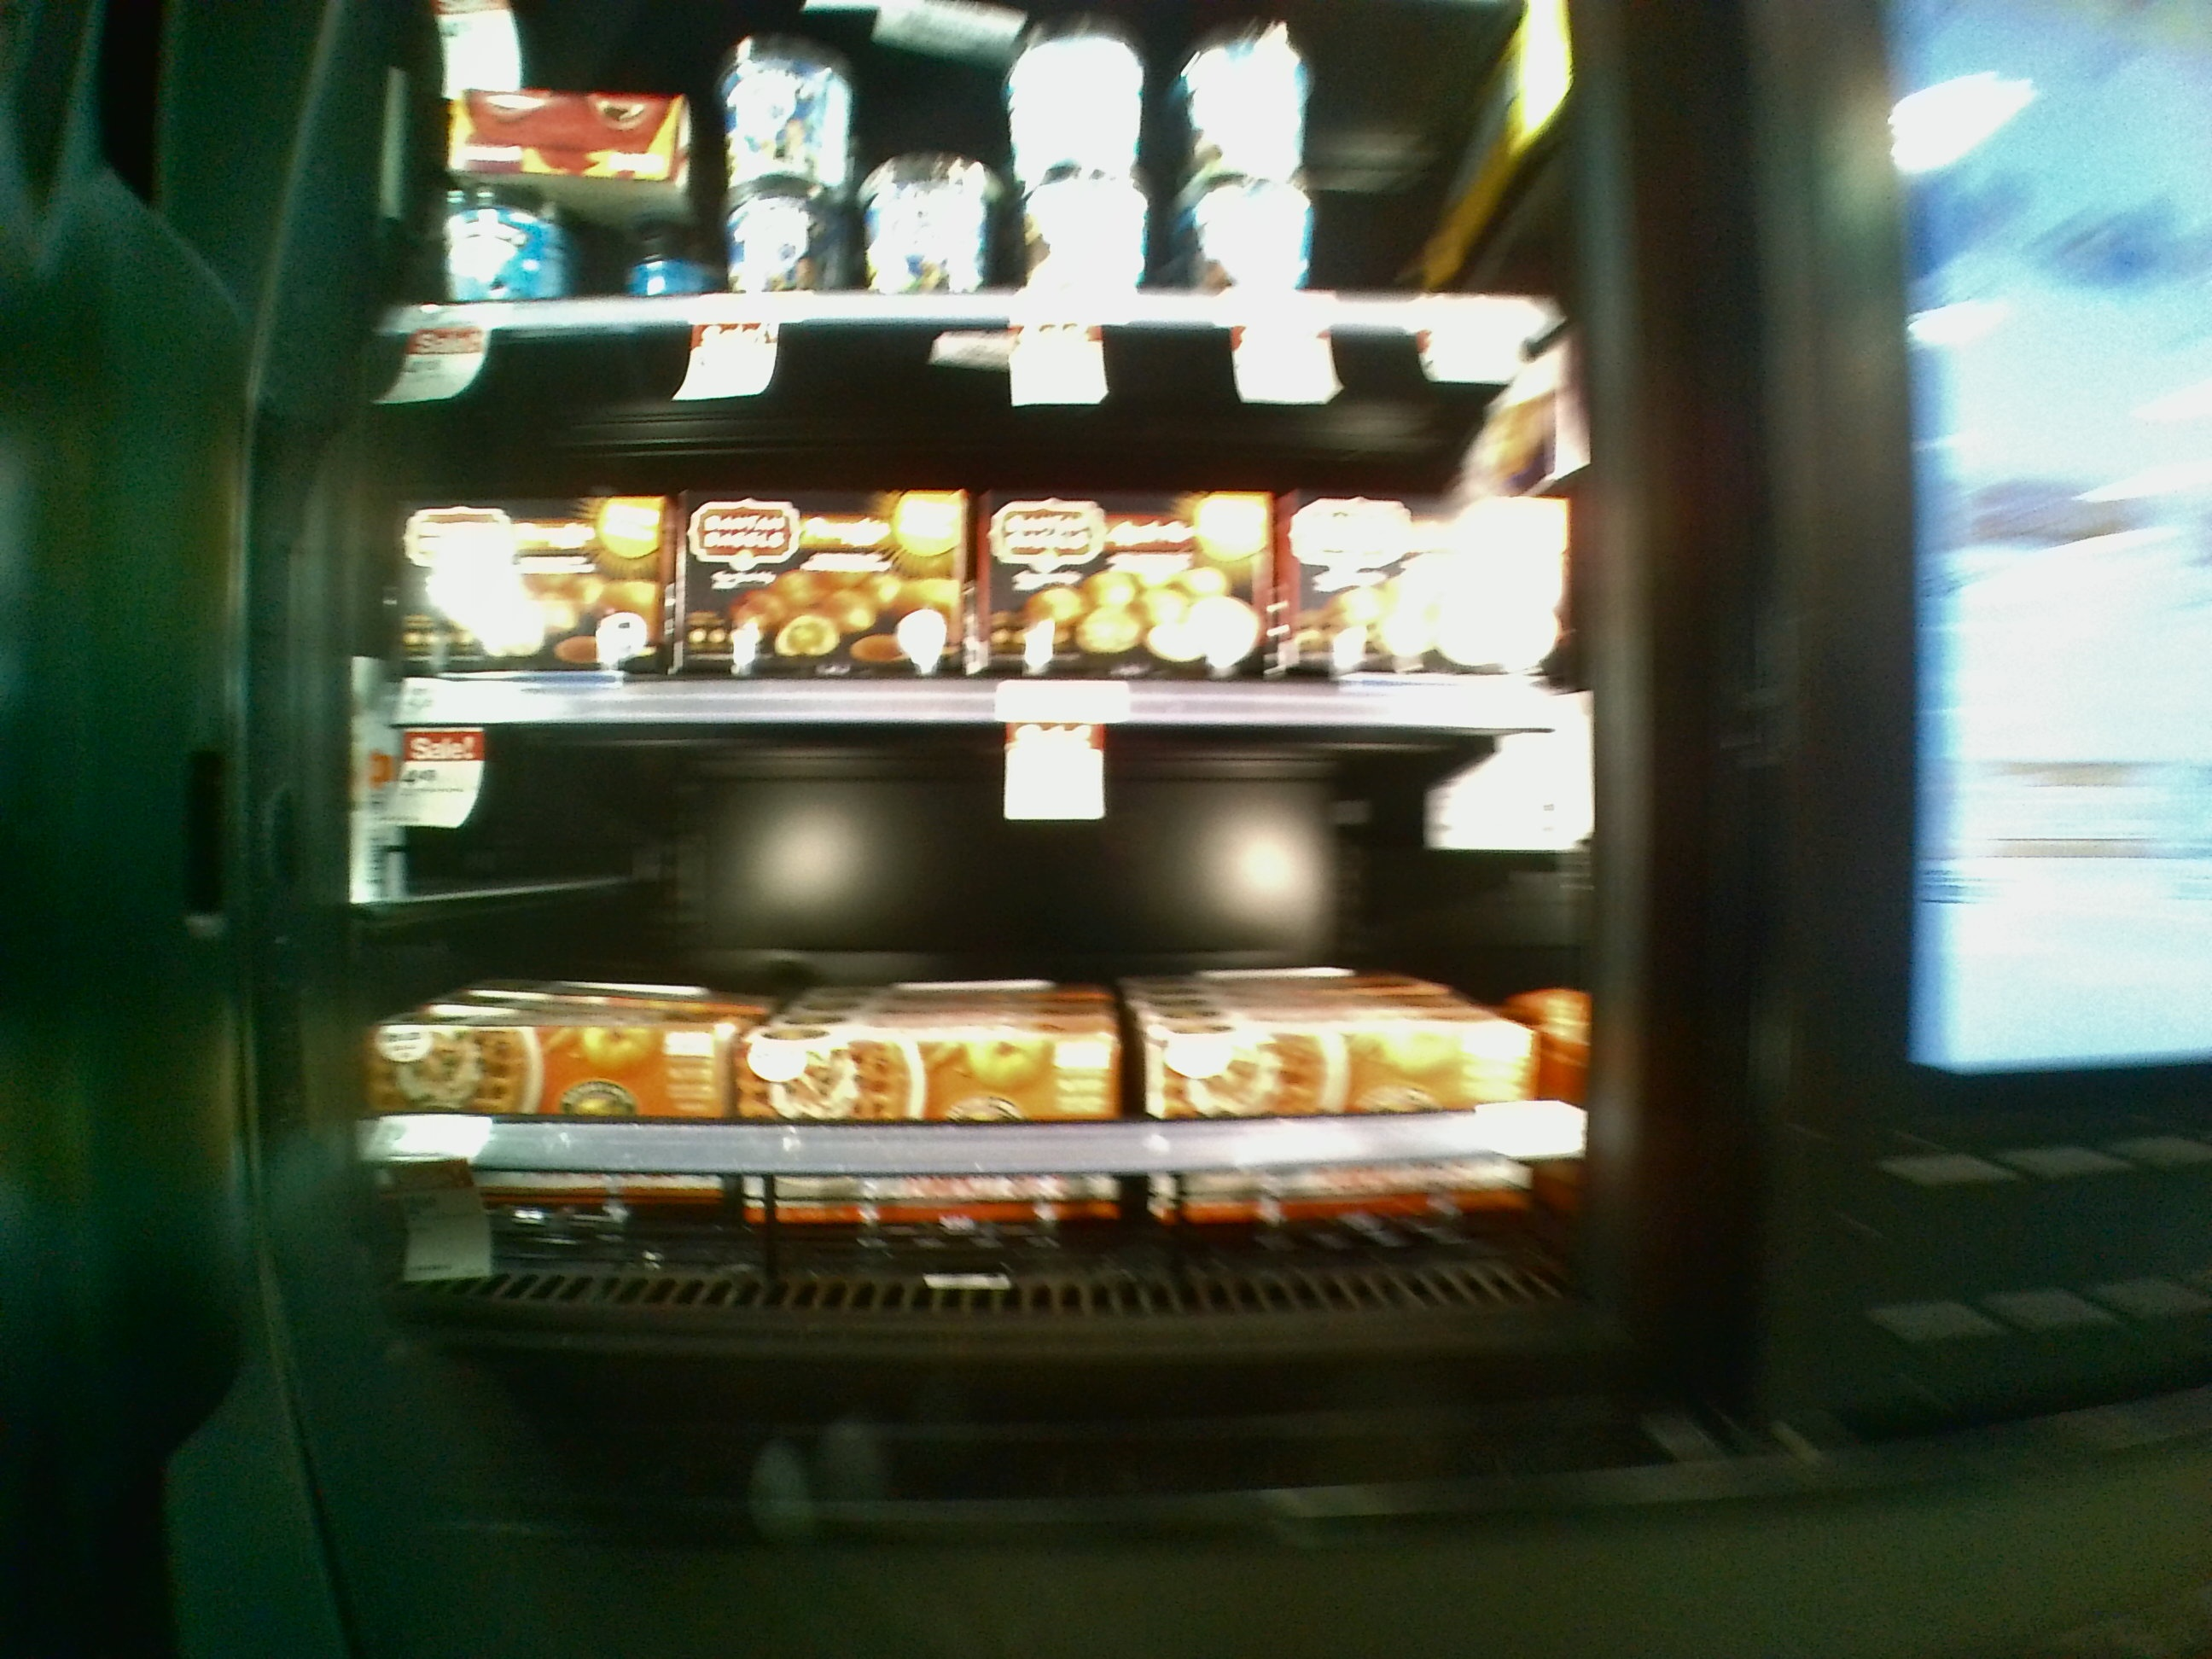shelf: (376, 694, 1604, 1370), (371, 319, 1608, 753)
